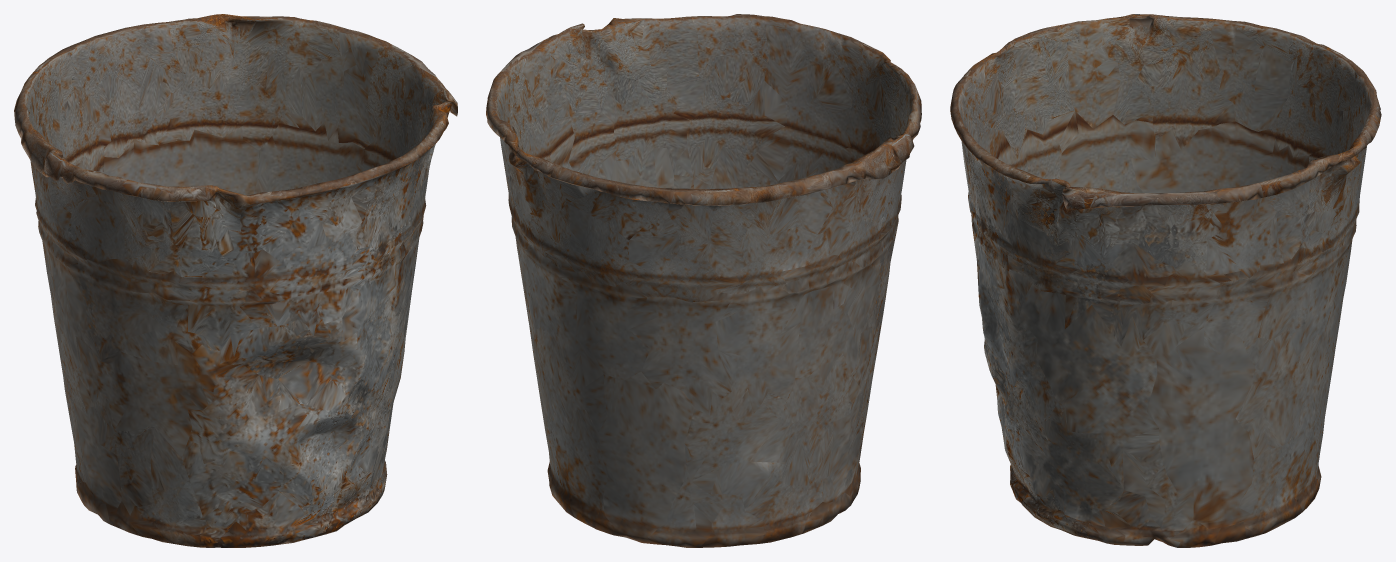
The model's file is Bucket.obj.
3 views of the same model, side by side, from view 1: azimuth 30°, elevation 25°; view 2: azimuth 150°, elevation 25°; view 3: azimuth 270°, elevation 25° (orthographic).
Bounding box in the file's own units: 190 × 184 × 187.
Materials: 1 (1 with a texture image).
